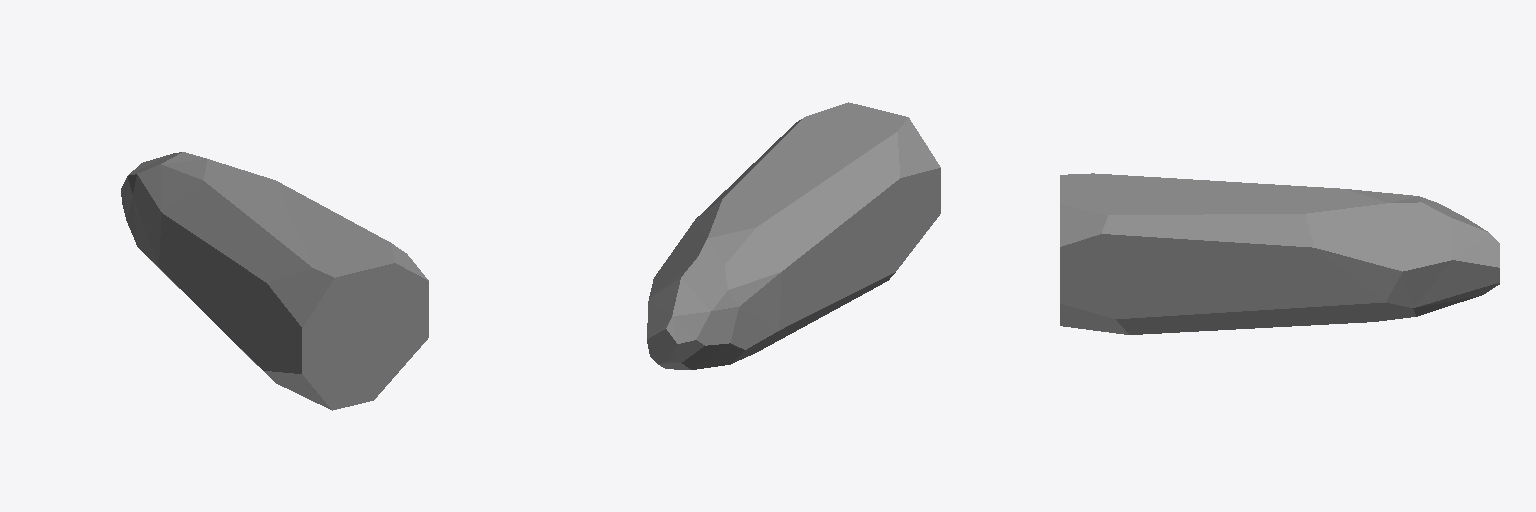
File: IcePillar000.obj
The picture shows the model from 3 angles: view 1: azimuth 30°, elevation 25°; view 2: azimuth 150°, elevation 25°; view 3: azimuth 270°, elevation 25°; orthographic projection.
Visible parts, largest first — view 1: aaa6__SandIcePillar00; view 2: aaa6__SandIcePillar00; view 3: aaa6__SandIcePillar00.
Part boxes in pixels (left/top/right/bottom): aaa6__SandIcePillar00: left=121, top=152, right=428, bottom=410; aaa6__SandIcePillar00: left=647, top=102, right=940, bottom=369; aaa6__SandIcePillar00: left=1060, top=173, right=1499, bottom=334.
Size of the model in its own units: 694 by 694 by 2084.